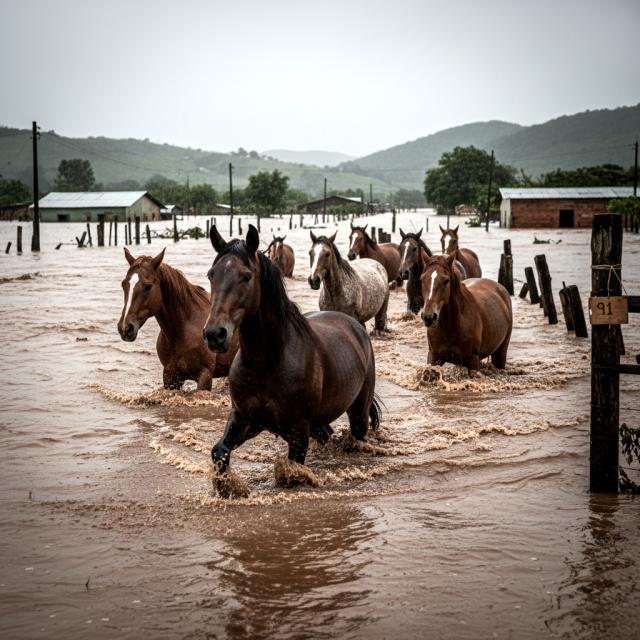horse: (199, 220, 383, 483), (108, 243, 254, 402), (413, 239, 525, 392), (299, 220, 396, 356), (391, 221, 480, 318), (346, 215, 412, 300), (433, 217, 484, 287), (266, 228, 303, 284)
